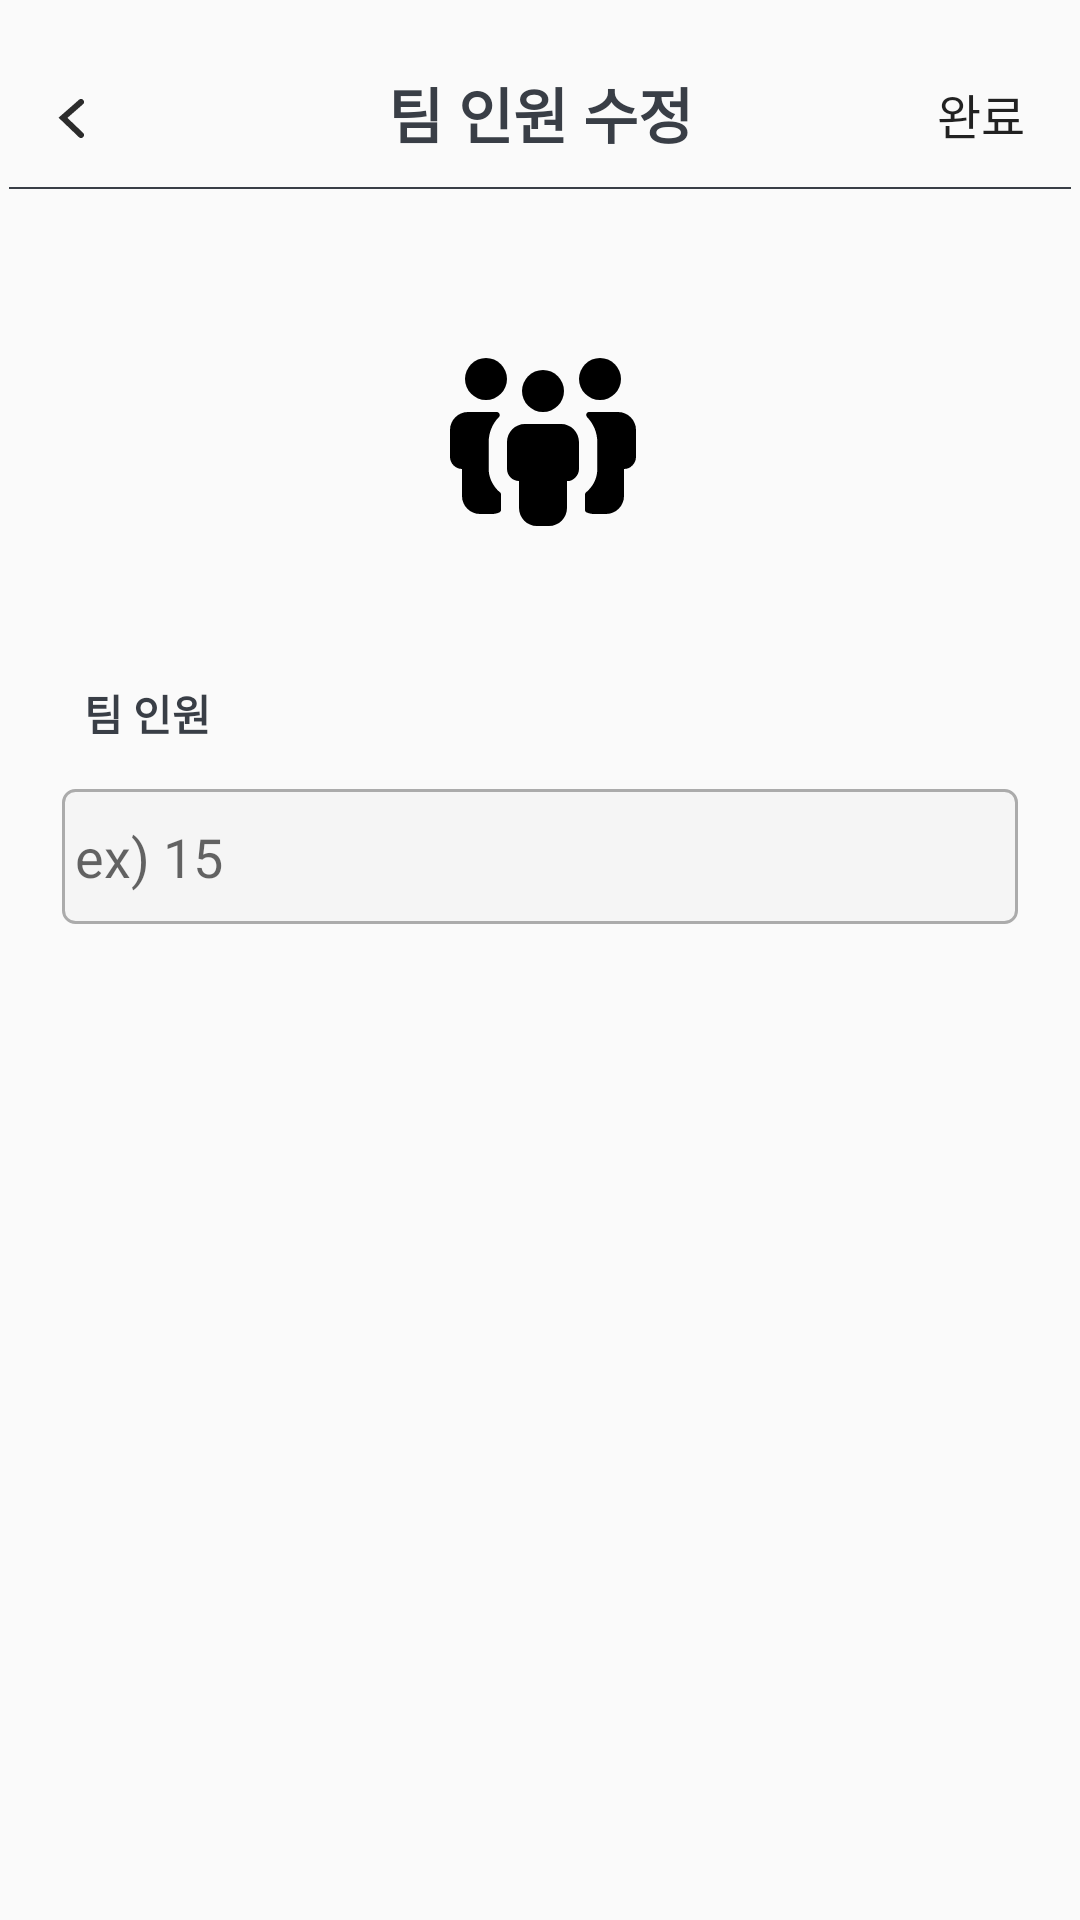

Icons on this 1080 × 1920 Android screen, each with its box as {"x1": x1, "y1": y1, "x2": x2, "y2": y2}:
arrow: {"x1": 58, "y1": 99, "x2": 84, "y2": 138}
team member: {"x1": 450, "y1": 358, "x2": 636, "y2": 526}
